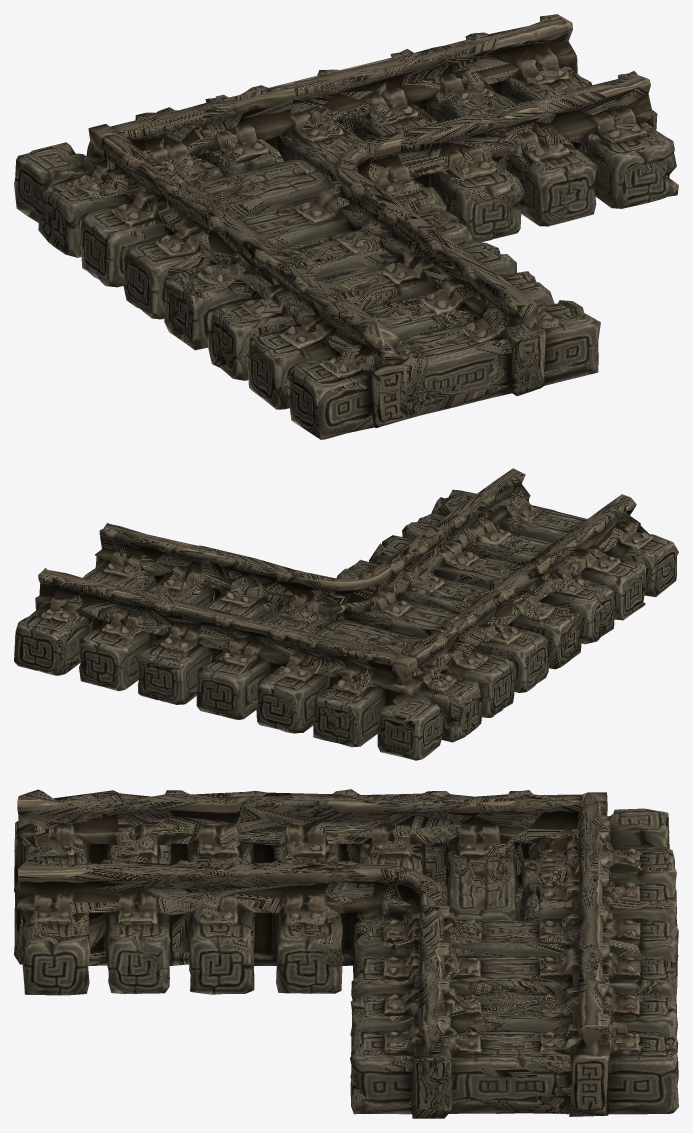
Rendered from stone_staircase_01.glb.
3 renders of one model, top to bottom at view 1: azimuth 30°, elevation 25°; view 2: azimuth 150°, elevation 25°; view 3: azimuth 270°, elevation 25°, orthographic. The views are drawn at different scales.
Parts seen in each view (by area): view 1: tripo_node_595373e2-316a-403b-bebd-59ff4a148ebc; view 2: tripo_node_595373e2-316a-403b-bebd-59ff4a148ebc; view 3: tripo_node_595373e2-316a-403b-bebd-59ff4a148ebc.
Boxes of the visible parts, x1=… form: tripo_node_595373e2-316a-403b-bebd-59ff4a148ebc: x1=14, y1=14, x2=678, y2=439; tripo_node_595373e2-316a-403b-bebd-59ff4a148ebc: x1=14, y1=468, x2=678, y2=760; tripo_node_595373e2-316a-403b-bebd-59ff4a148ebc: x1=14, y1=789, x2=678, y2=1118.
Bounding box in the file's own units: 0.9279 × 0.1526 × 0.983.
Materials: 1 (1 with a texture image).
